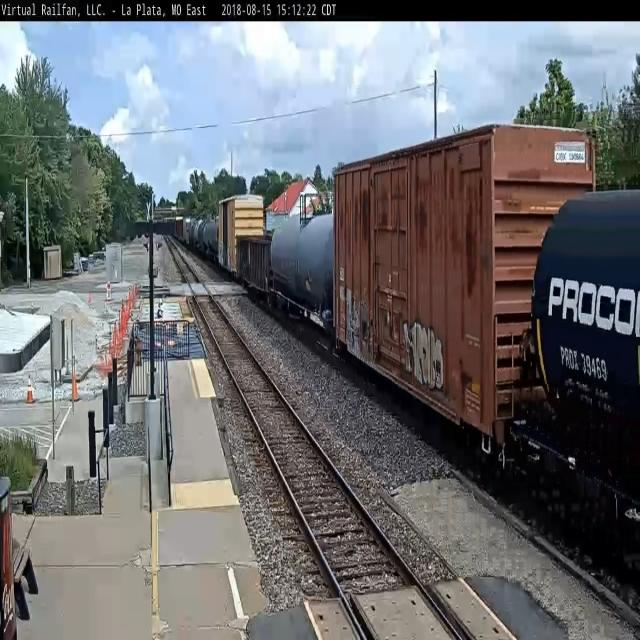boxcar: (328, 112, 598, 469)
gondola: (235, 232, 272, 298)
tank: (522, 179, 640, 528), (267, 208, 336, 341)
